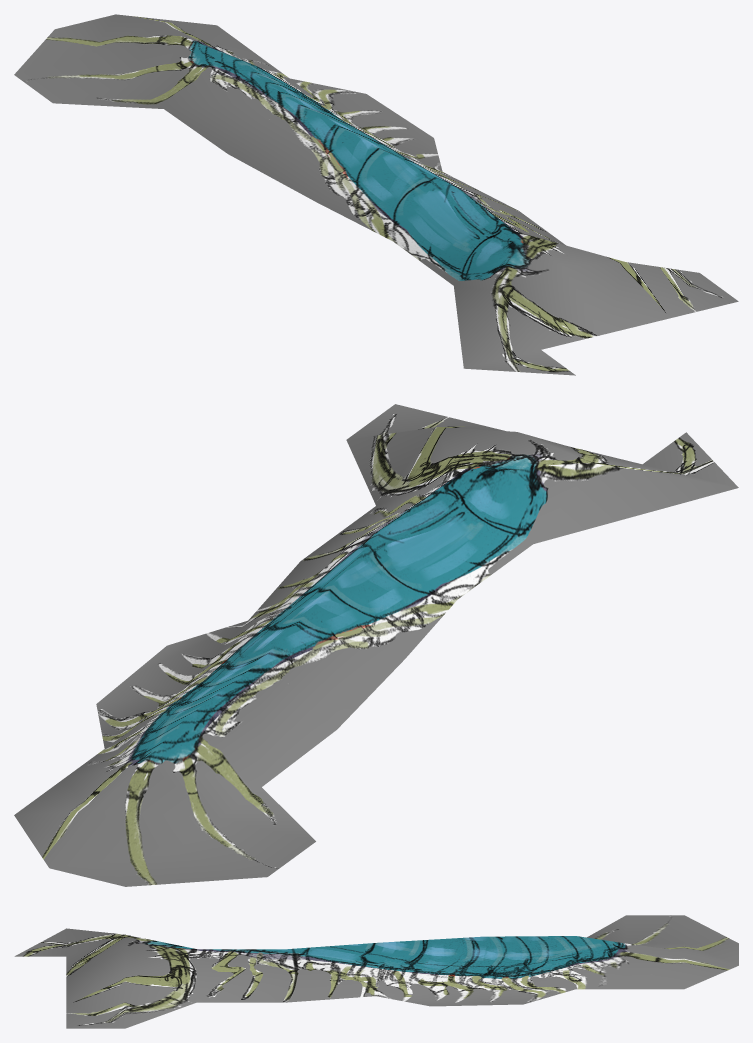
File: lowpn.fbx
3 renders of one model, top to bottom at view 1: azimuth 30°, elevation 25°; view 2: azimuth 150°, elevation 25°; view 3: azimuth 270°, elevation 25°, orthographic. The views are drawn at different scales.
Visible parts, largest first — view 1: lowpn_Mesh_001; view 2: lowpn_Mesh_001; view 3: lowpn_Mesh_001.
Part boxes in pixels (x1,y1,x2,y2): lowpn_Mesh_001: (14,14,738,375); lowpn_Mesh_001: (14,404,738,886); lowpn_Mesh_001: (14,915,738,1028).
Size of the model in its own units: 18.53 by 2.26 by 50.
